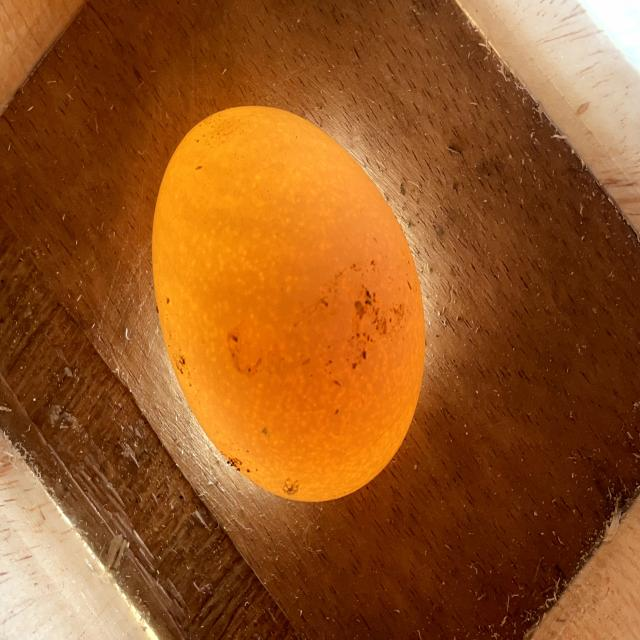infertile: (153, 107, 425, 502)
